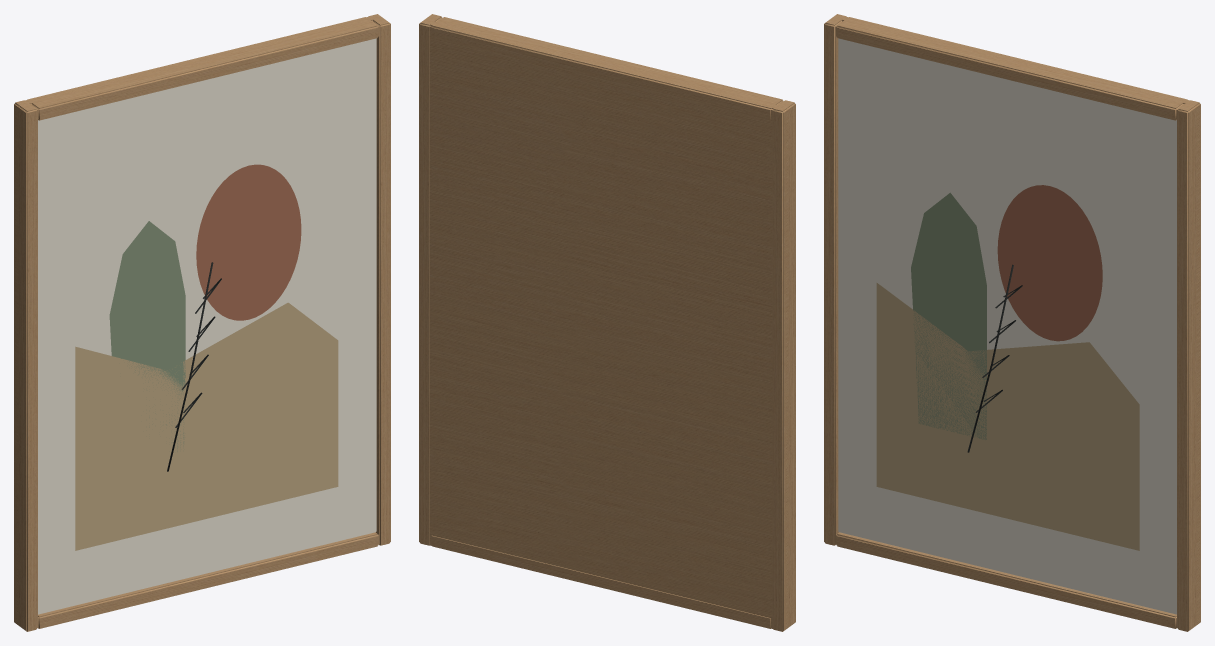
Rendered from scandinavian.art.gltf.
3 views of the same model, side by side, from view 1: azimuth 30°, elevation 25°; view 2: azimuth 150°, elevation 25°; view 3: azimuth 330°, elevation 25° (orthographic).
Parts seen in each view (by area): view 1: scandinavian.art.backing; view 2: scandinavian.art.backing; view 3: scandinavian.art.backing.
Part boxes in pixels (bbox=[...]): scandinavian.art.backing: bbox=[14, 14, 390, 631]; scandinavian.art.backing: bbox=[419, 14, 795, 631]; scandinavian.art.backing: bbox=[824, 14, 1200, 631].
Size of the model in its own units: 0.55 by 0.75 by 0.035.
6 materials, 1 textured.
